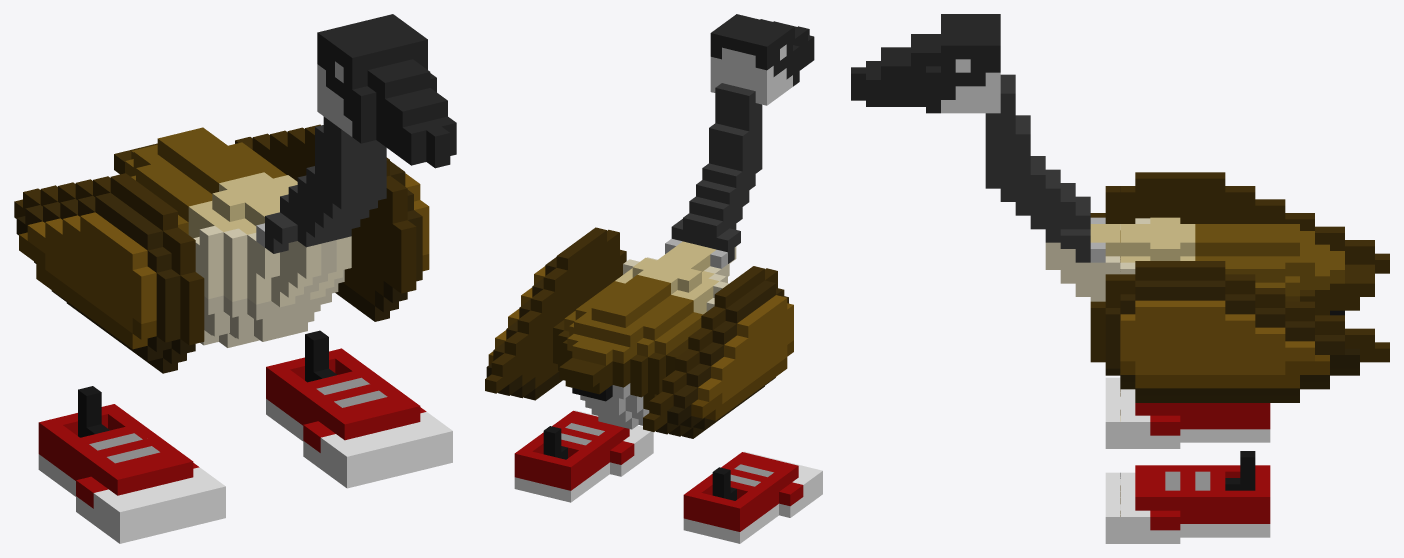
Rendered from Goose.fbx.
The picture shows the model from 3 angles, left to right: view 1: azimuth 30°, elevation 25°; view 2: azimuth 150°, elevation 25°; view 3: azimuth 270°, elevation 25°; orthographic projection. The views are drawn at different scales.
Visible parts, largest first — view 1: Matrix_2, Matrix_6, Matrix, Matrix_3, Matrix_4, Matrix_7, Matrix_5; view 2: Matrix_2, Matrix_6, Matrix_7, Matrix_5, Matrix, Matrix_3, Matrix_4; view 3: Matrix_7, Matrix_2, Matrix_3, Matrix_4, Matrix_6, Matrix_5, Matrix.
Boxes of the visible parts, x1,y1,x2,y2 form: Matrix_2: (114, 127, 351, 347); Matrix_6: (14, 173, 204, 373); Matrix: (38, 386, 225, 543); Matrix_3: (266, 330, 452, 488); Matrix_4: (317, 14, 456, 168); Matrix_7: (235, 124, 429, 321); Matrix_5: (256, 116, 386, 253); Matrix_2: (553, 241, 736, 429); Matrix_6: (643, 266, 793, 438); Matrix_7: (485, 227, 626, 400); Matrix_5: (665, 83, 762, 268); Matrix: (683, 451, 822, 543); Matrix_3: (514, 410, 653, 502); Matrix_4: (710, 14, 814, 105); Matrix_7: (1090, 261, 1389, 402); Matrix_2: (1045, 217, 1374, 315); Matrix_3: (1105, 451, 1270, 543); Matrix_4: (851, 14, 1000, 113); Matrix_6: (1090, 172, 1389, 273); Matrix_5: (985, 74, 1105, 262); Matrix: (1105, 377, 1270, 448).
Bounding box in the file's own units: 22 × 33 × 36.
1 material, 1 textured.
